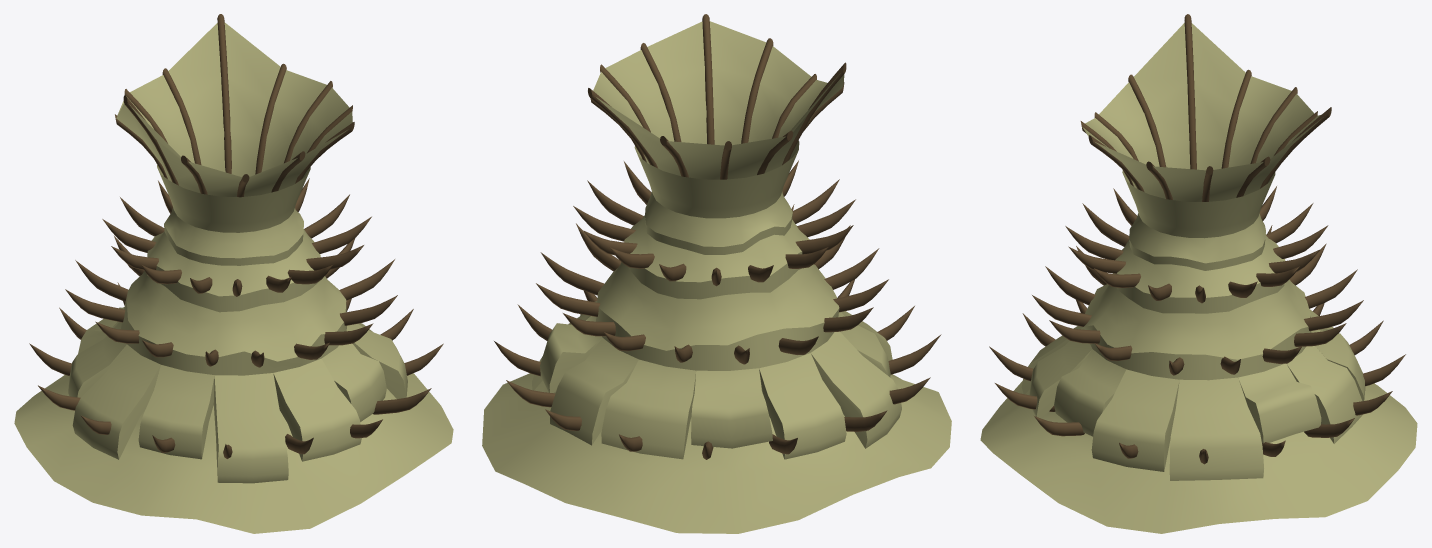
File: Farthest Hut.fbx
3 renders of one model, left to right at view 1: azimuth 30°, elevation 25°; view 2: azimuth 150°, elevation 25°; view 3: azimuth 270°, elevation 25°, orthographic. The views are drawn at different scales.
Visible parts, largest first — view 1: hut_roof_and_tent_geo, hut_framing_details_geo; view 2: hut_roof_and_tent_geo, hut_framing_details_geo; view 3: hut_roof_and_tent_geo, hut_framing_details_geo.
Part boxes in pixels (bbox=[...]): hut_roof_and_tent_geo: bbox=[14, 22, 453, 533]; hut_framing_details_geo: bbox=[29, 14, 443, 458]; hut_roof_and_tent_geo: bbox=[482, 21, 951, 533]; hut_framing_details_geo: bbox=[494, 14, 941, 459]; hut_roof_and_tent_geo: bbox=[980, 23, 1417, 533]; hut_framing_details_geo: bbox=[989, 14, 1405, 464].
Size of the model in its own units: 15.91 by 15.12 by 15.91.
